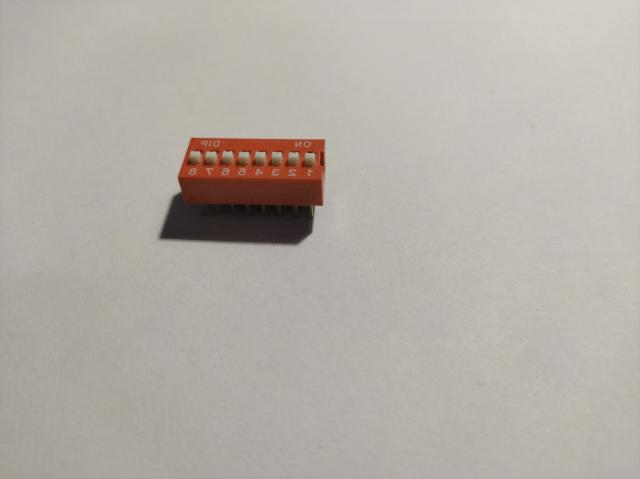dip_switch: (178, 138, 326, 216)
